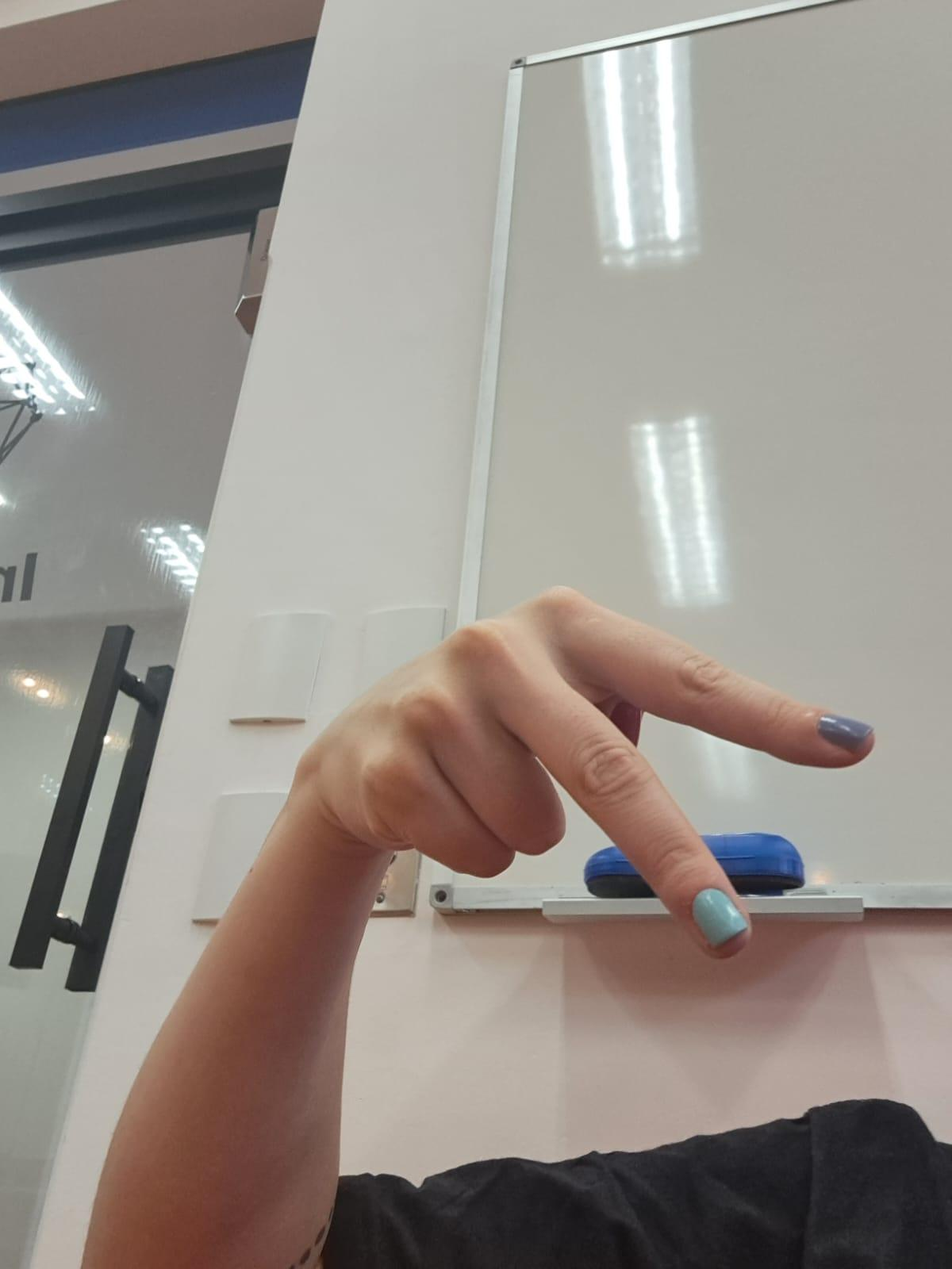P: (294, 571, 889, 964)
